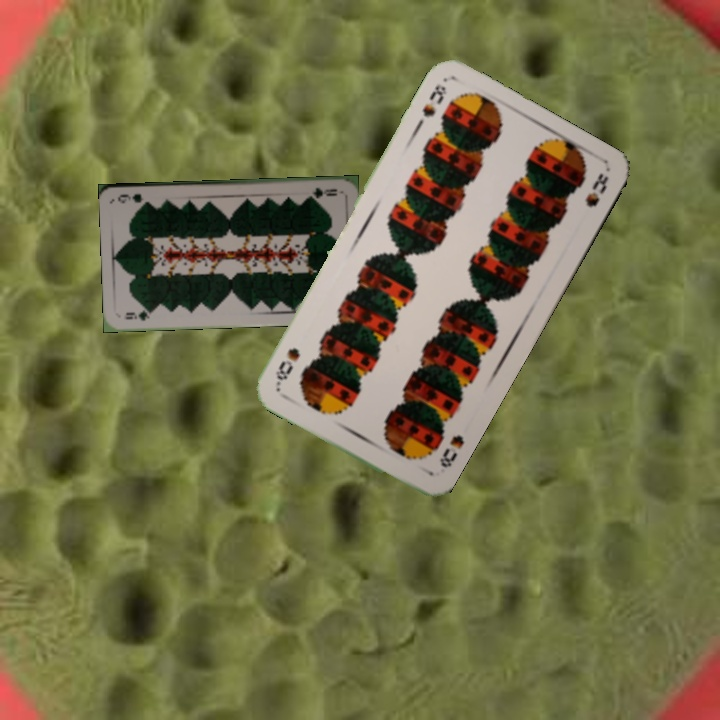G9: (304, 183, 340, 200), (122, 306, 158, 323)
S8: (435, 430, 467, 471), (418, 79, 450, 120)
